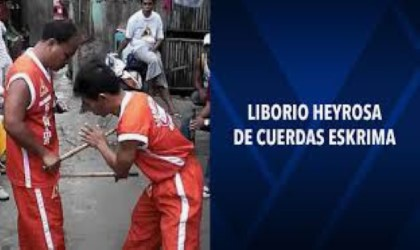baston_e: (57, 138, 86, 163), (62, 170, 118, 177)
baston_v: (109, 123, 120, 132), (132, 169, 140, 177), (39, 163, 46, 171)
